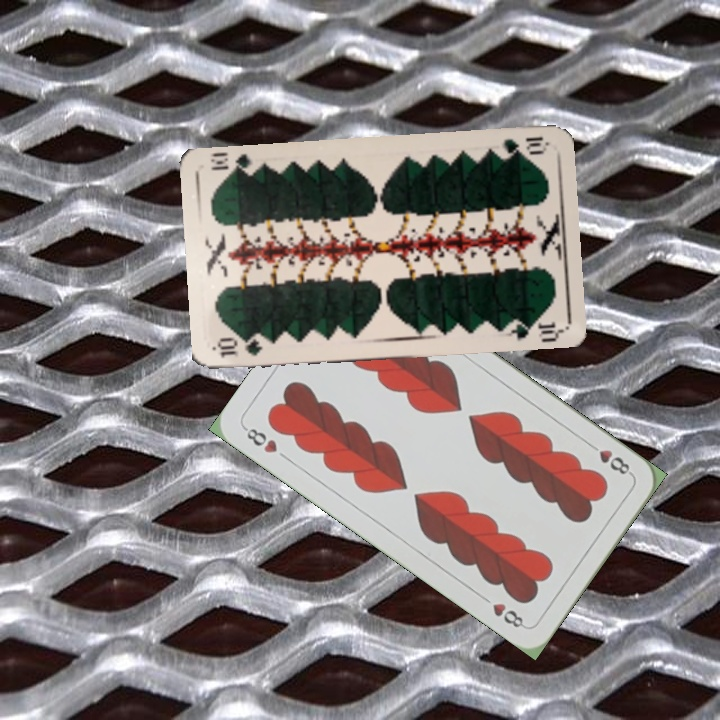G10: (213, 335, 265, 360), (500, 133, 550, 159)
H8: (584, 438, 635, 478), (239, 423, 280, 456)
